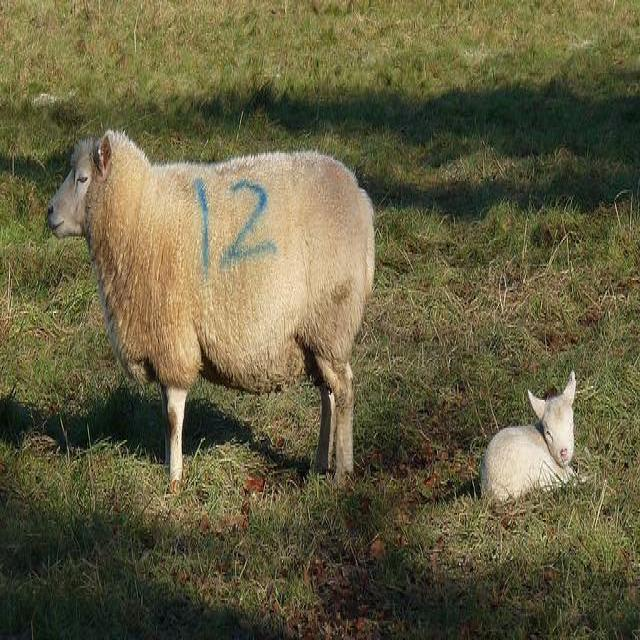Sheep: (46, 125, 375, 501), (484, 377, 584, 506)
